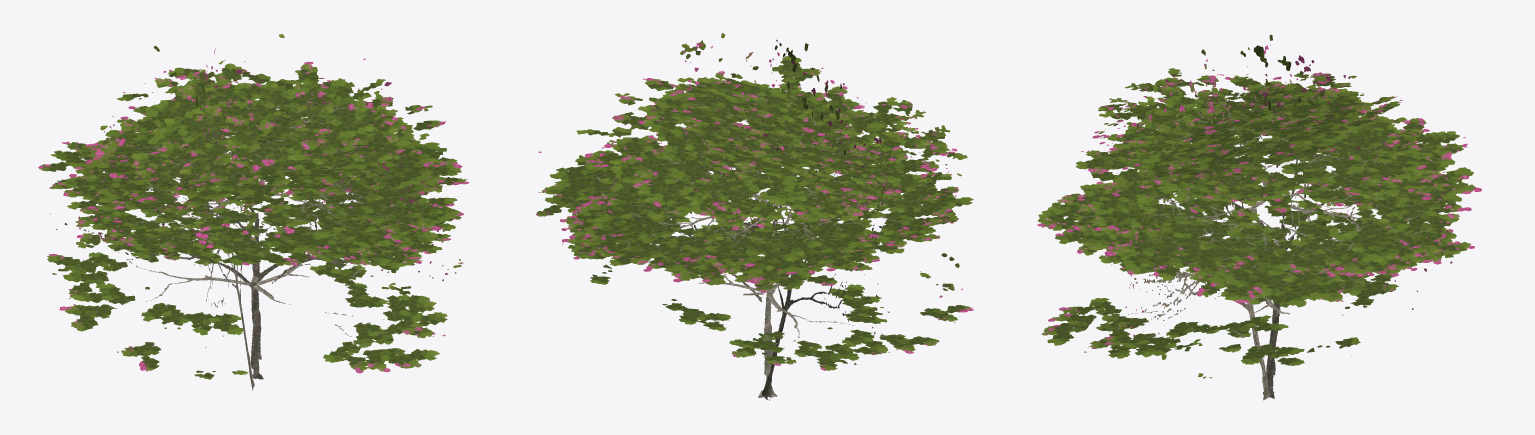
Rendered from tree-2-2.glb.
The picture shows the model from 3 angles, left to right: view 1: azimuth 30°, elevation 25°; view 2: azimuth 150°, elevation 25°; view 3: azimuth 270°, elevation 25°; orthographic projection. The views are drawn at different scales.
Visible parts, largest first — view 1: BillboardCloudProxy_0_LOD2; view 2: BillboardCloudProxy_0_LOD2; view 3: BillboardCloudProxy_0_LOD2.
Part boxes in pixels (bbox=[...]): BillboardCloudProxy_0_LOD2: bbox=[38, 34, 469, 390]; BillboardCloudProxy_0_LOD2: bbox=[536, 33, 973, 400]; BillboardCloudProxy_0_LOD2: bbox=[1037, 35, 1481, 400].
Size of the model in its own units: 8.38 by 7.66 by 8.74.
1 material, 1 textured.
